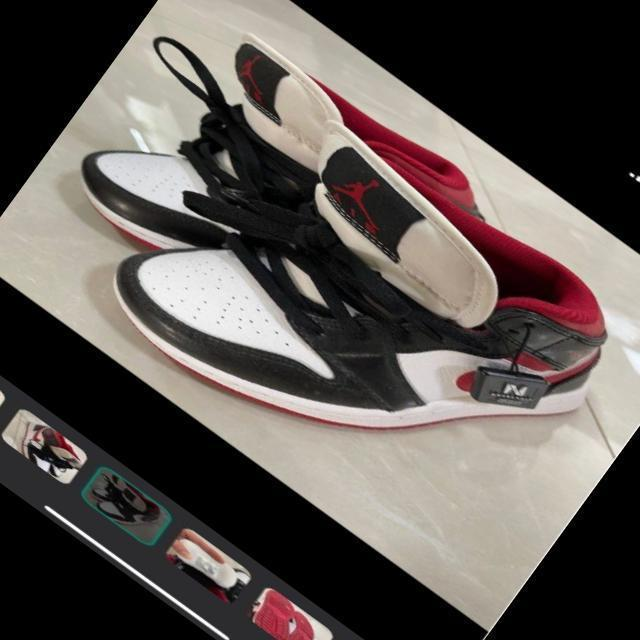nike fake jordan 1: (87, 51, 640, 603), (58, 0, 504, 404)
